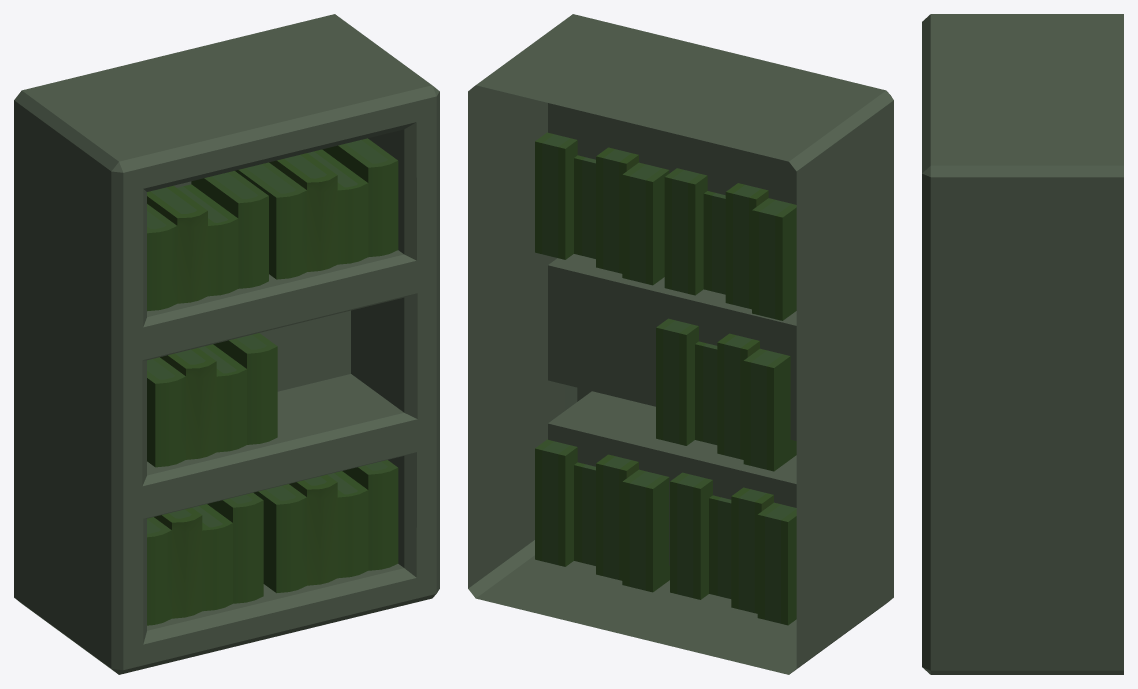
The model's file is bookShelf.fbx.
3 views of the same model, side by side, from view 1: azimuth 30°, elevation 25°; view 2: azimuth 150°, elevation 25°; view 3: azimuth 270°, elevation 25° (orthographic).
Parts seen in each view (by area): view 1: bookshelf; view 2: bookshelf; view 3: bookshelf.
Part boxes in pixels (left/top/right/bottom): bookshelf: left=14, top=14, right=439, bottom=674; bookshelf: left=468, top=14, right=893, bottom=674; bookshelf: left=922, top=14, right=1123, bottom=674.
Size of the model in its own units: 739 by 1103 by 396.
